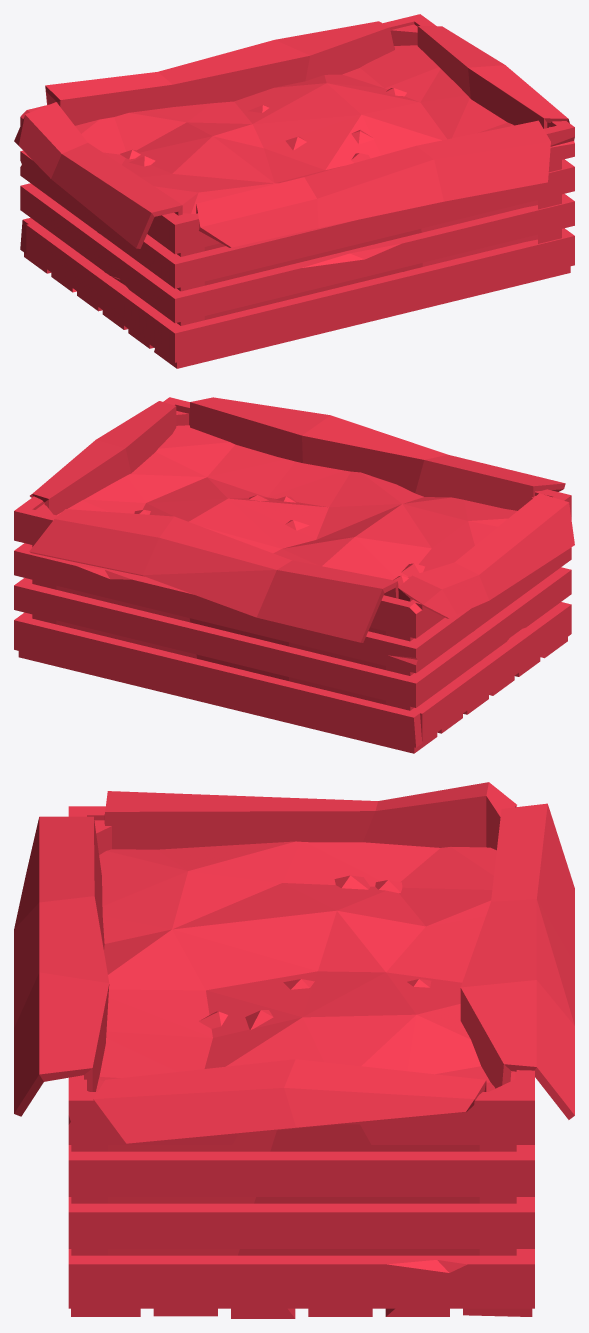
Rendered from SM_Crate_Wood_Medium_Paper_Sunflower_Seeds.fbx.
3 views of the same model, one above another, from view 1: azimuth 30°, elevation 25°; view 2: azimuth 150°, elevation 25°; view 3: azimuth 270°, elevation 25° (orthographic). The views are drawn at different scales.
Visible parts, largest first — view 1: crate-wood-medium-paper-sunflower-seeds; view 2: crate-wood-medium-paper-sunflower-seeds; view 3: crate-wood-medium-paper-sunflower-seeds.
Boxes of the visible parts, box(x1,y1,x2,y2) form: crate-wood-medium-paper-sunflower-seeds: box(14, 14, 574, 368); crate-wood-medium-paper-sunflower-seeds: box(14, 397, 574, 753); crate-wood-medium-paper-sunflower-seeds: box(14, 782, 574, 1318).
Size of the model in its own units: 0.663 by 0.2348 by 0.4887.
